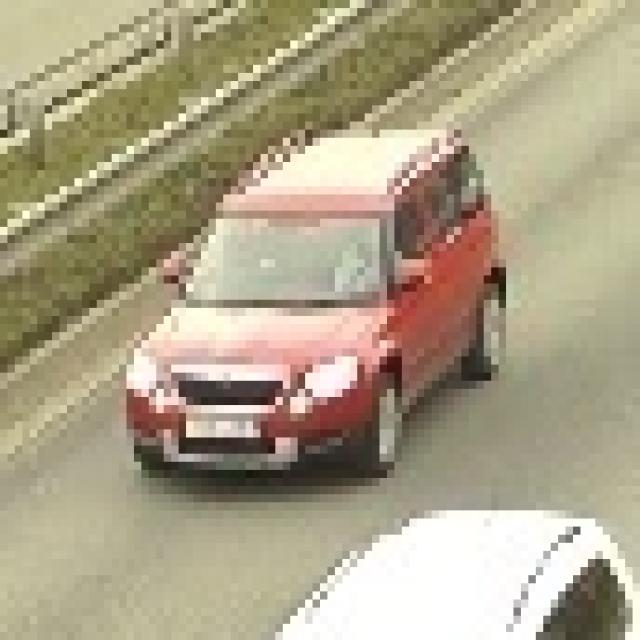SUV: (130, 134, 478, 472), (136, 522, 624, 640)
